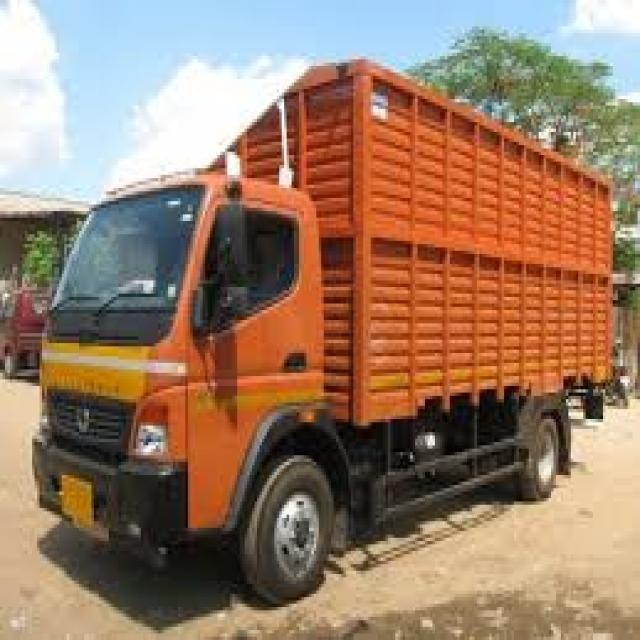covered: (29, 52, 616, 604)
